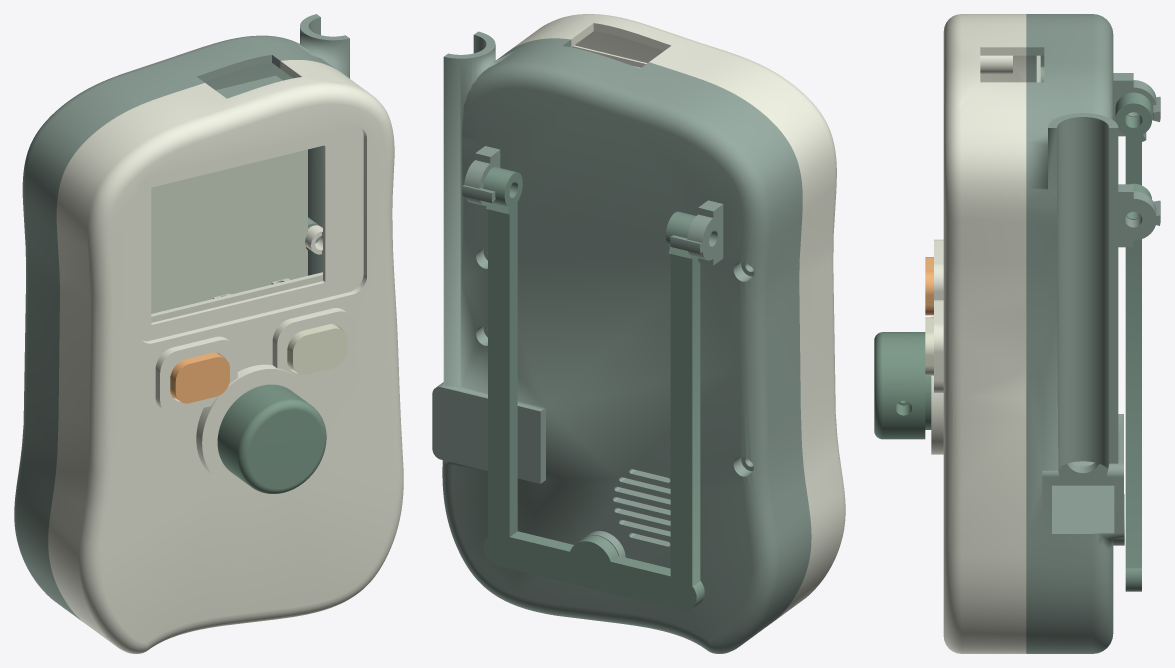
The model's file is assembly.glb.
The picture shows the model from 3 angles, left to right: view 1: azimuth 30°, elevation 25°; view 2: azimuth 150°, elevation 25°; view 3: azimuth 270°, elevation 25°; orthographic projection. The views are drawn at different scales.
Parts seen in each view (by area): view 1: front_shell, rear_shell, battery_guard, encoder_knob, button_right, button_left, display_carrier; view 2: rear_shell, stand_frame, front_shell; view 3: rear_shell, front_shell, stand_frame, encoder_knob, button_left, button_right.
Part boxes in pixels (x1,y1,x2,y2): front_shell: [48, 60, 403, 653]; rear_shell: [14, 14, 349, 621]; battery_guard: [151, 149, 307, 313]; encoder_knob: [217, 384, 326, 493]; button_right: [287, 324, 347, 374]; button_left: [170, 352, 229, 403]; display_carrier: [151, 272, 322, 322]; rear_shell: [432, 31, 811, 653]; stand_frame: [483, 167, 704, 611]; front_shell: [512, 14, 845, 620]; rear_shell: [1026, 14, 1160, 653]; front_shell: [931, 14, 1026, 653]; stand_frame: [1115, 92, 1151, 591]; encoder_knob: [874, 332, 931, 439]; button_left: [925, 257, 933, 315]; button_right: [925, 317, 933, 375].
Size of the model in its own units: 77.14 by 121 by 56.1.
